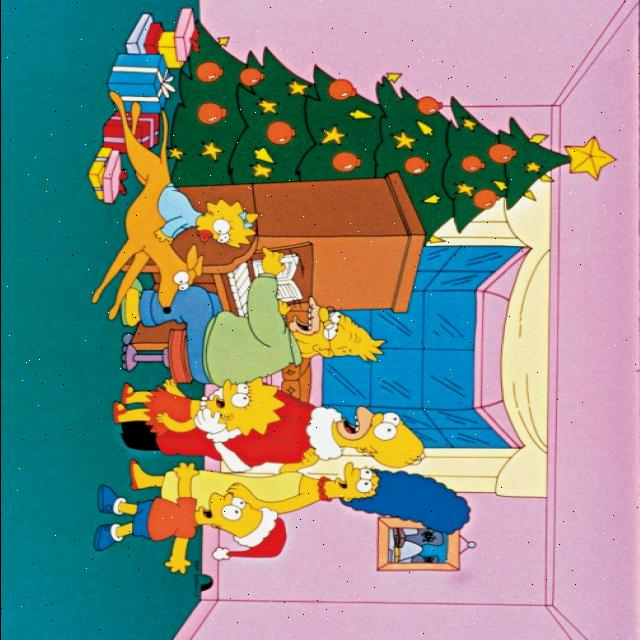Abraham Grampa Simpson: (287, 296, 387, 366)
Bart Simpson: (192, 492, 264, 540)
Homer Simpson: (330, 405, 426, 469)
Lisa Simpson: (195, 376, 283, 438)
Maggie Simpson: (190, 198, 260, 251)
Marge Simpson: (316, 462, 470, 536)
